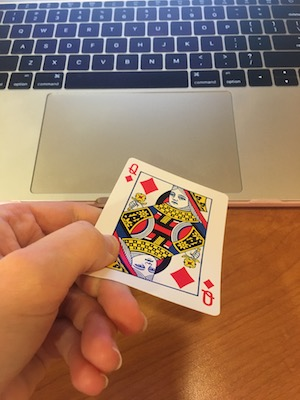QueenOfDiamonds: (70, 154, 242, 321)
